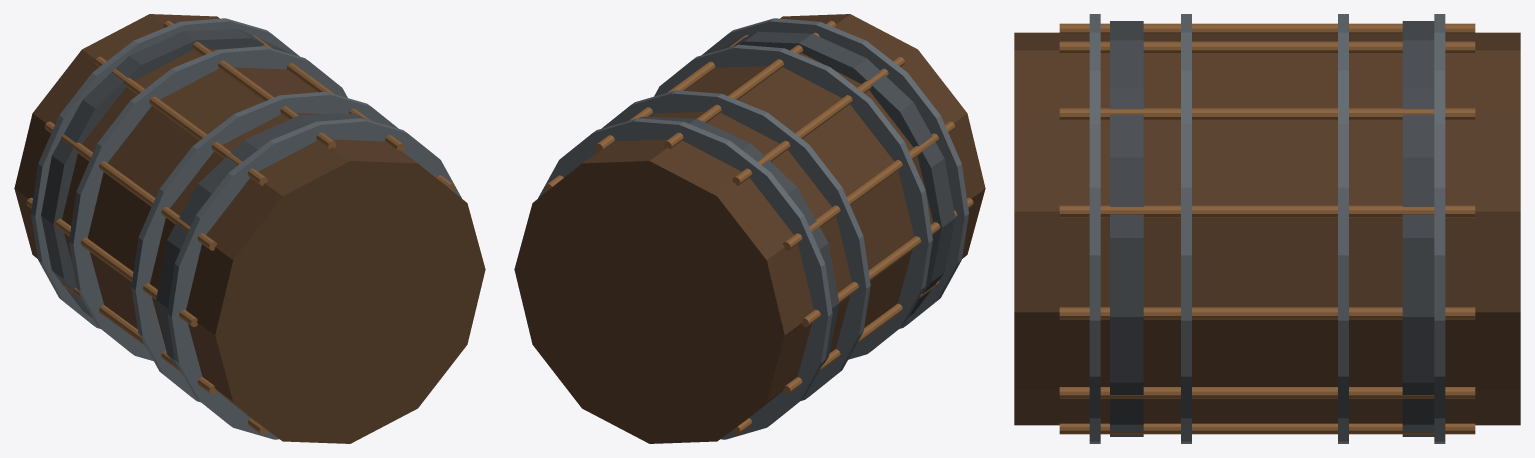
File: SM_Barrel.obj
The picture shows the model from 3 angles, left to right: view 1: azimuth 30°, elevation 25°; view 2: azimuth 150°, elevation 25°; view 3: azimuth 270°, elevation 25°; orthographic projection. The views are drawn at different scales.
Bounding box in the file's own units: 0.7696 × 0.7696 × 0.9.
